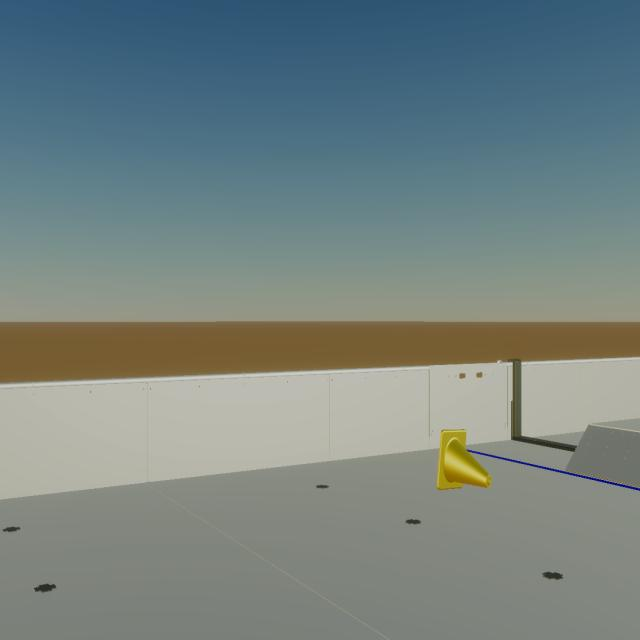frc_cone: (437, 429, 491, 490)
